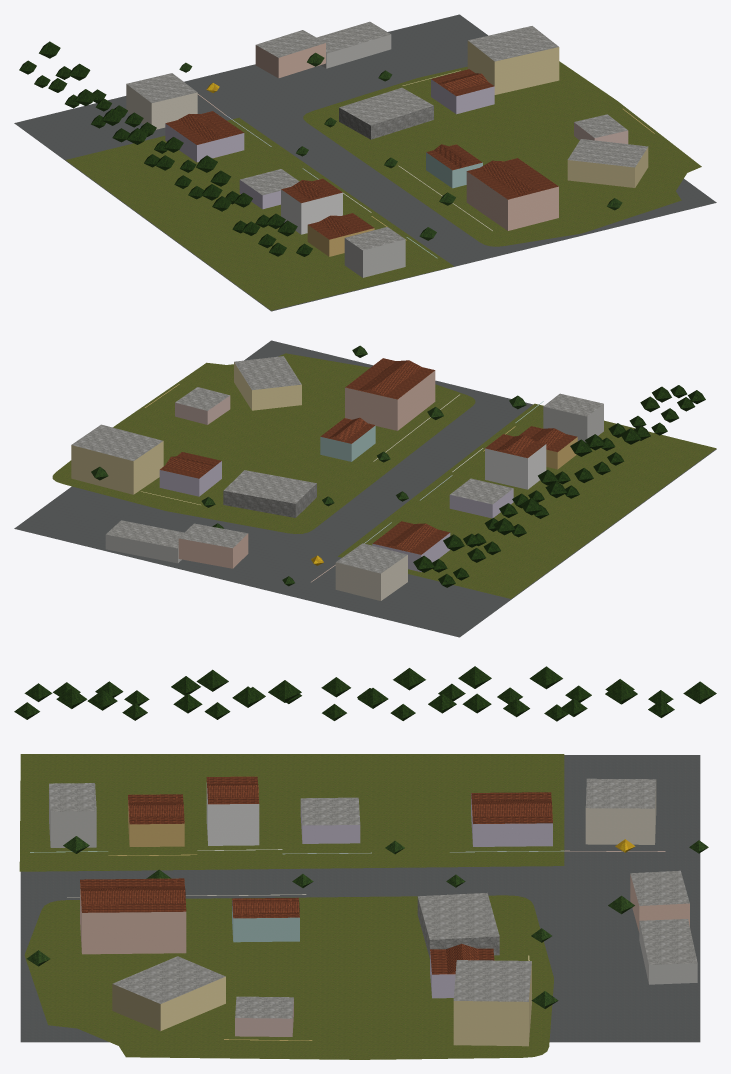
Rendered from cidade_S00_06_lod.gltf.
3 renders of one model, top to bottom at view 1: azimuth 30°, elevation 25°; view 2: azimuth 150°, elevation 25°; view 3: azimuth 270°, elevation 25°, orthographic. The views are drawn at different scales.
Parts seen in each view (by area): view 1: S00_06_Chao_LOD2, S00_06_Edificios_LOD1, S00_06_Silhueta_LOD2, S00_06_Vegetacao_LOD2; view 2: S00_06_Chao_LOD2, S00_06_Edificios_LOD1, S00_06_Silhueta_LOD2, S00_06_Vegetacao_LOD2; view 3: S00_06_Chao_LOD2, S00_06_Edificios_LOD1, S00_06_Silhueta_LOD2, S00_06_Vegetacao_LOD2.
Boxes of the visible parts, bbox=[...] form: S00_06_Chao_LOD2: bbox=[14, 14, 716, 311]; S00_06_Edificios_LOD1: bbox=[126, 21, 654, 277]; S00_06_Silhueta_LOD2: bbox=[165, 69, 558, 256]; S00_06_Vegetacao_LOD2: bbox=[19, 41, 622, 256]; S00_06_Chao_LOD2: bbox=[14, 340, 716, 637]; S00_06_Edificios_LOD1: bbox=[71, 356, 603, 600]; S00_06_Silhueta_LOD2: bbox=[159, 358, 577, 572]; S00_06_Vegetacao_LOD2: bbox=[91, 345, 705, 587]; S00_06_Chao_LOD2: bbox=[19, 754, 700, 1059]; S00_06_Edificios_LOD1: bbox=[30, 778, 697, 1046]; S00_06_Silhueta_LOD2: bbox=[80, 776, 552, 998]; S00_06_Vegetacao_LOD2: bbox=[14, 666, 716, 1008].
Size of the model in its own units: 107 by 15.94 by 103.
17 materials, 17 textured.
